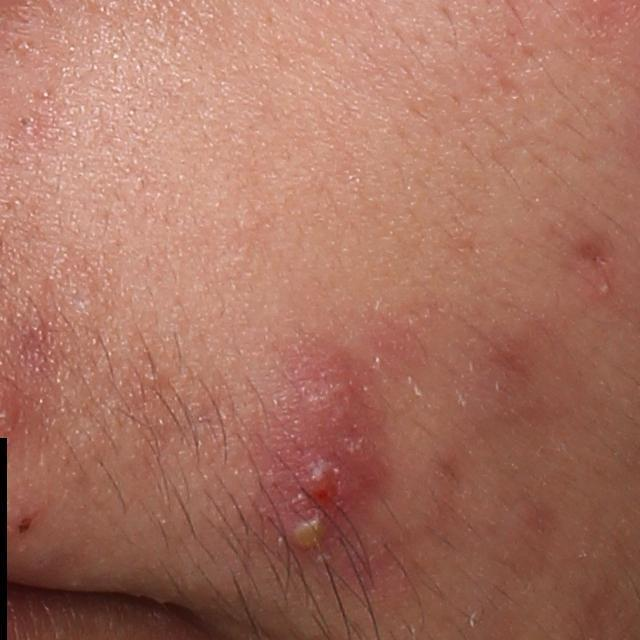comedo: (17, 109, 37, 129)
papule: (295, 353, 376, 438), (287, 454, 358, 512), (327, 420, 389, 467)
pustule: (281, 510, 338, 559)
